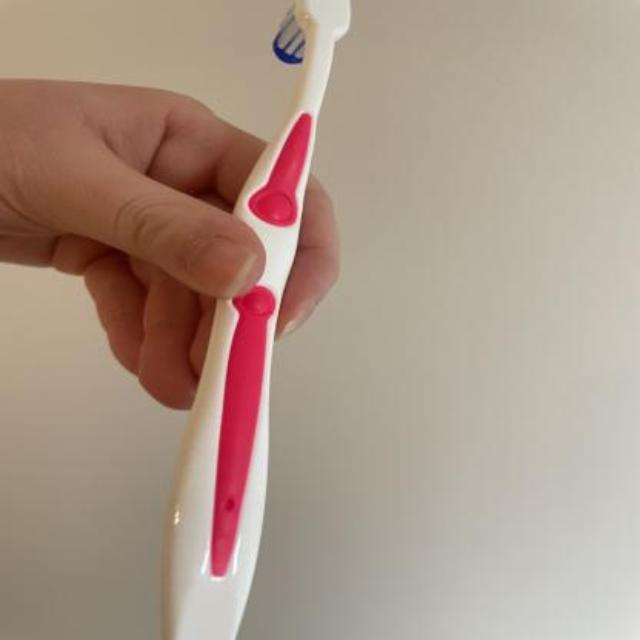toothbrush: (162, 6, 364, 640)
